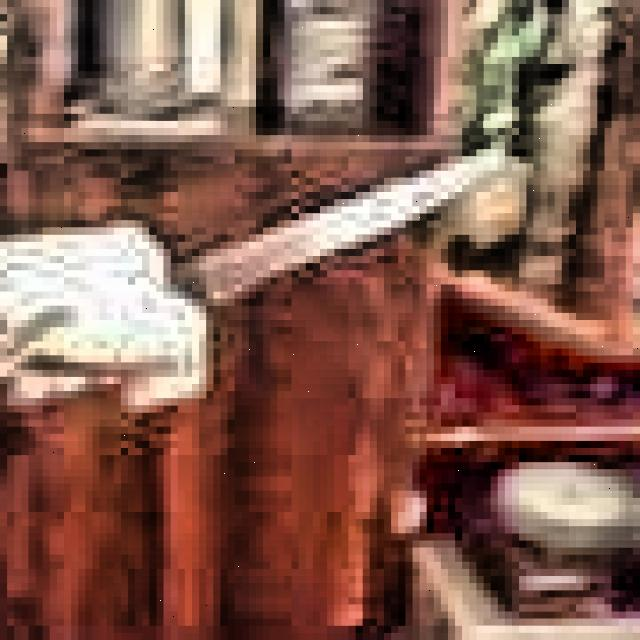knife: (176, 144, 513, 310)
